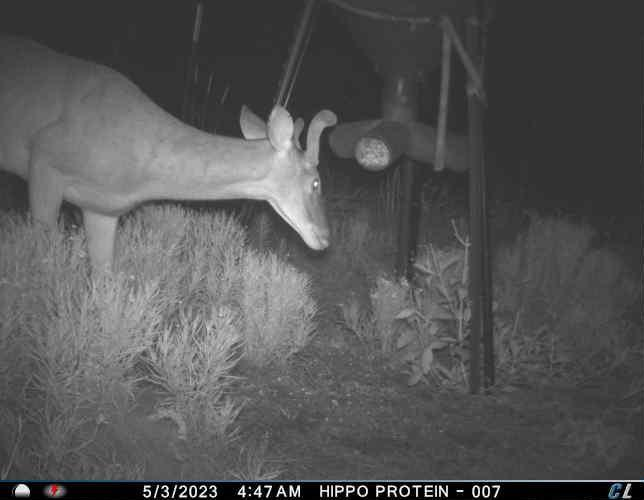Deer: (0, 28, 342, 284)
